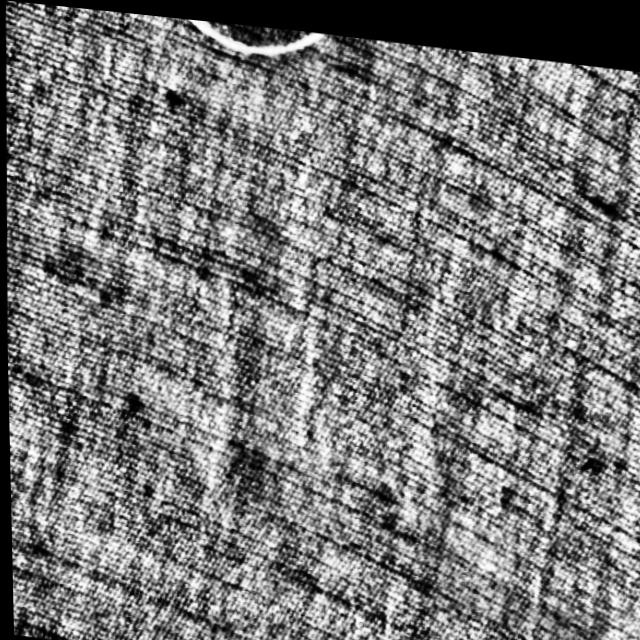Stitch: (182, 1, 337, 78)
